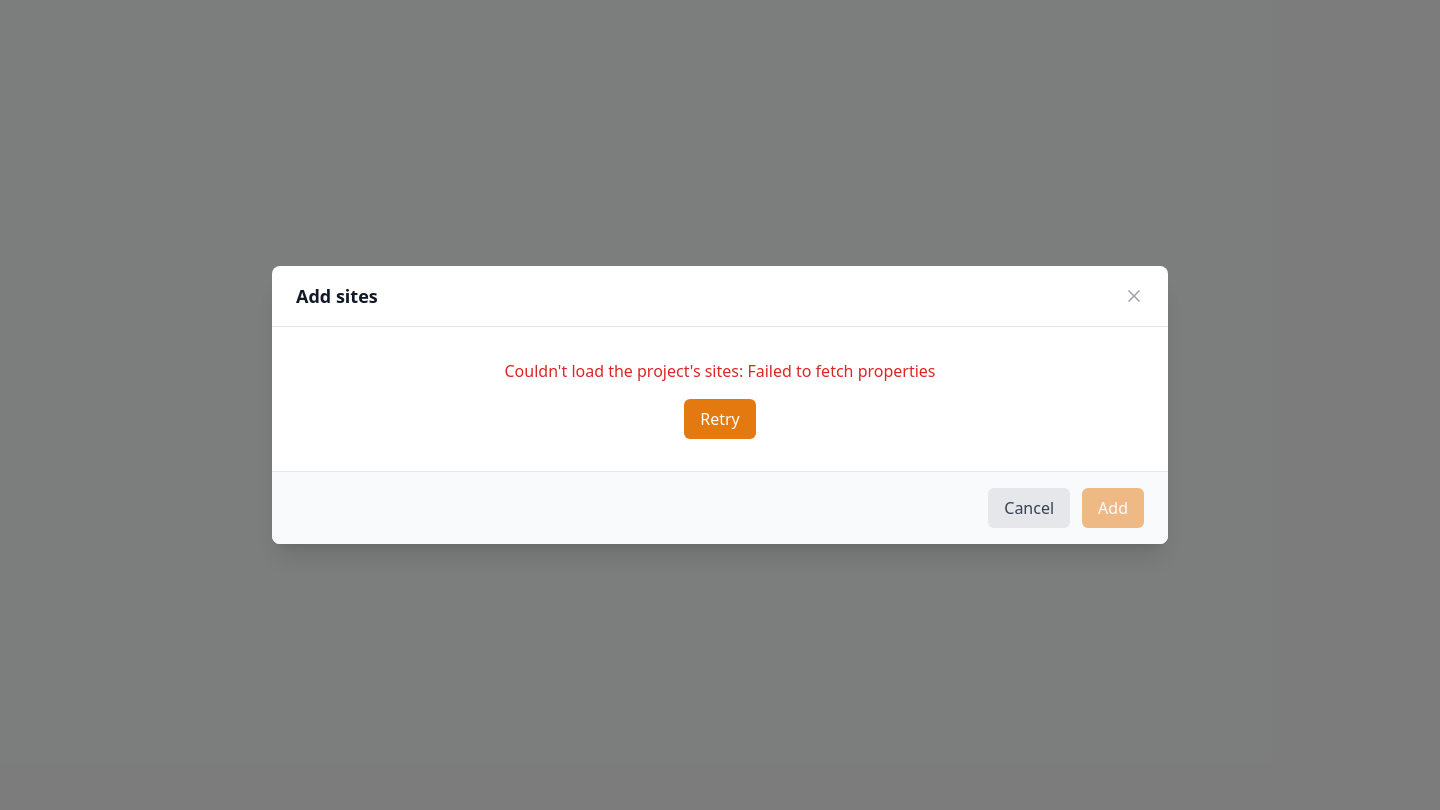
Test: PropertyPickerModal › shows a failed read with Retry
The width and height of the screenshot is (1440, 810).
Expected: the text "Couldn't load the project's sites: Failed to fetch properties" is shown, [504, 360, 936, 382]
Click the button "Retry" at (720, 419), box [684, 399, 756, 439]
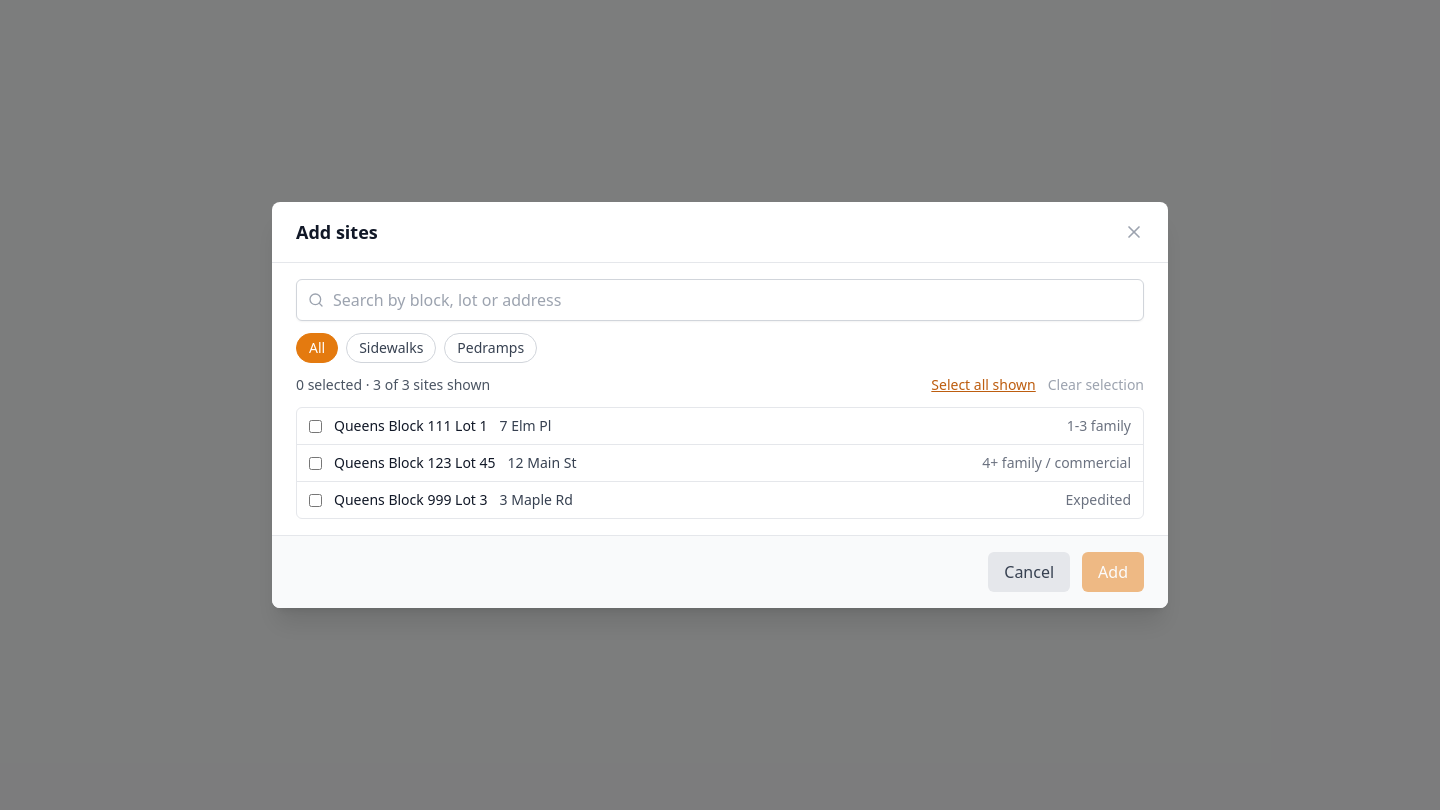
Now the search field is shown, box [296, 279, 1144, 321]
